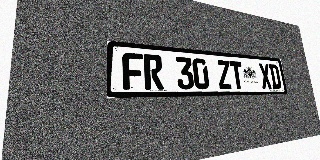0: (192, 58, 210, 89)
3: (175, 57, 194, 89)
D: (268, 64, 282, 89)
F: (122, 52, 144, 90)
R: (143, 54, 164, 90)
T: (229, 61, 245, 89)
X: (258, 63, 272, 89)
Z: (216, 60, 232, 89)
